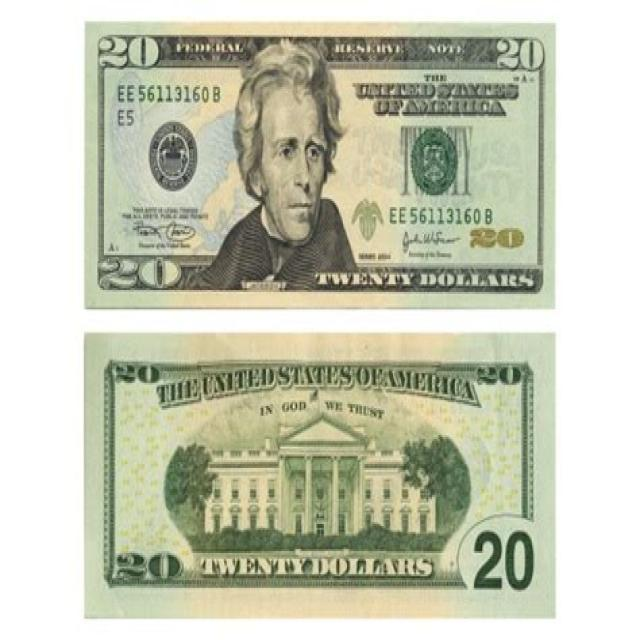Twenty: (84, 20, 553, 308), (83, 334, 555, 618)
